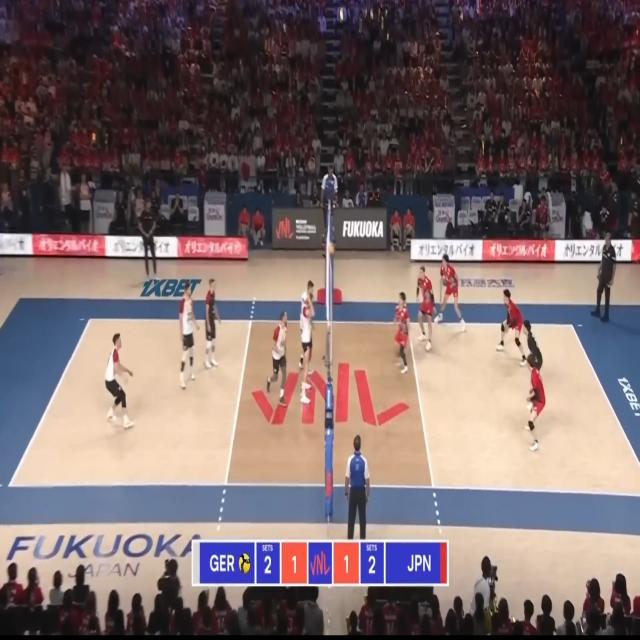ball: (328, 242, 335, 254)
